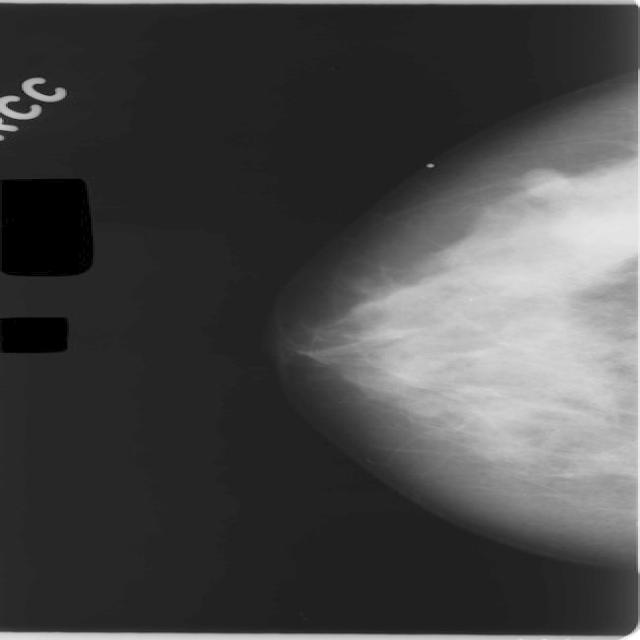tumour: (517, 166, 573, 198)
